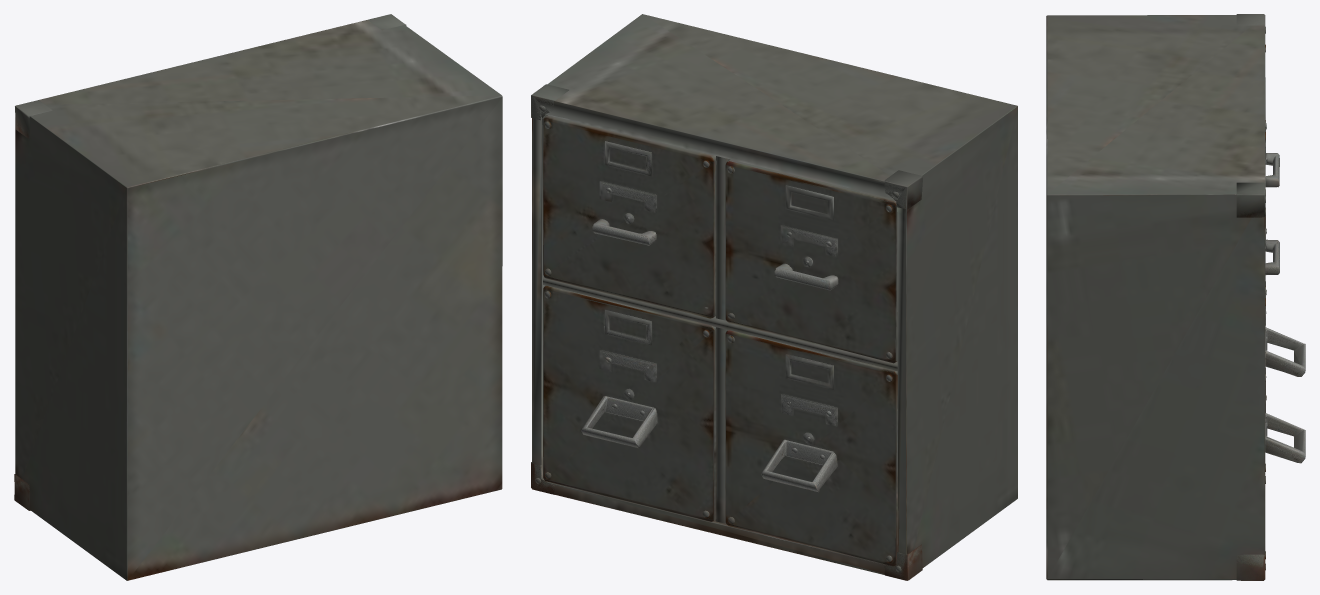
File: office-filing-cabinet.glb
3 renders of one model, left to right at view 1: azimuth 30°, elevation 25°; view 2: azimuth 150°, elevation 25°; view 3: azimuth 270°, elevation 25°, orthographic. The views are drawn at different scales.
Visible parts, largest first — view 1: filing-cabinet; view 2: filing-cabinet; view 3: filing-cabinet.
Part boxes in pixels (x1,y1,x2,y2): filing-cabinet: [14, 14, 502, 580]; filing-cabinet: [531, 14, 1017, 580]; filing-cabinet: [1046, 14, 1305, 580].
Bounding box in the file's own units: 1.32 × 1.32 × 0.8013.
1 material, 1 textured.
